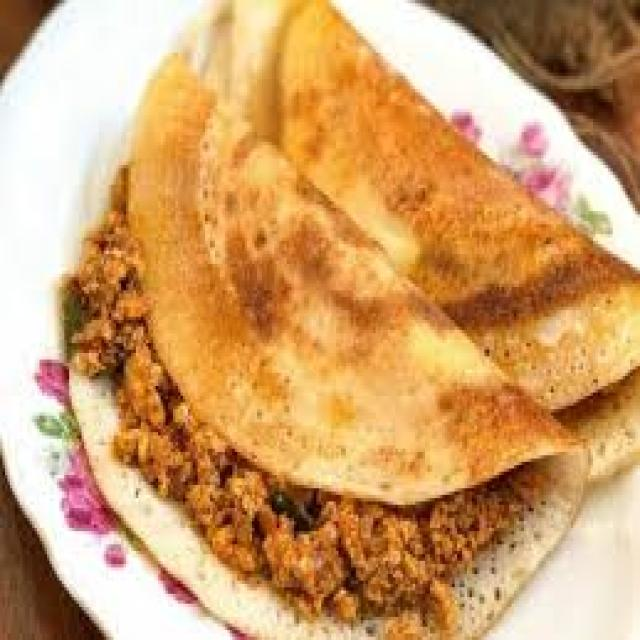DOSA: (62, 50, 599, 637), (173, 0, 638, 483)
